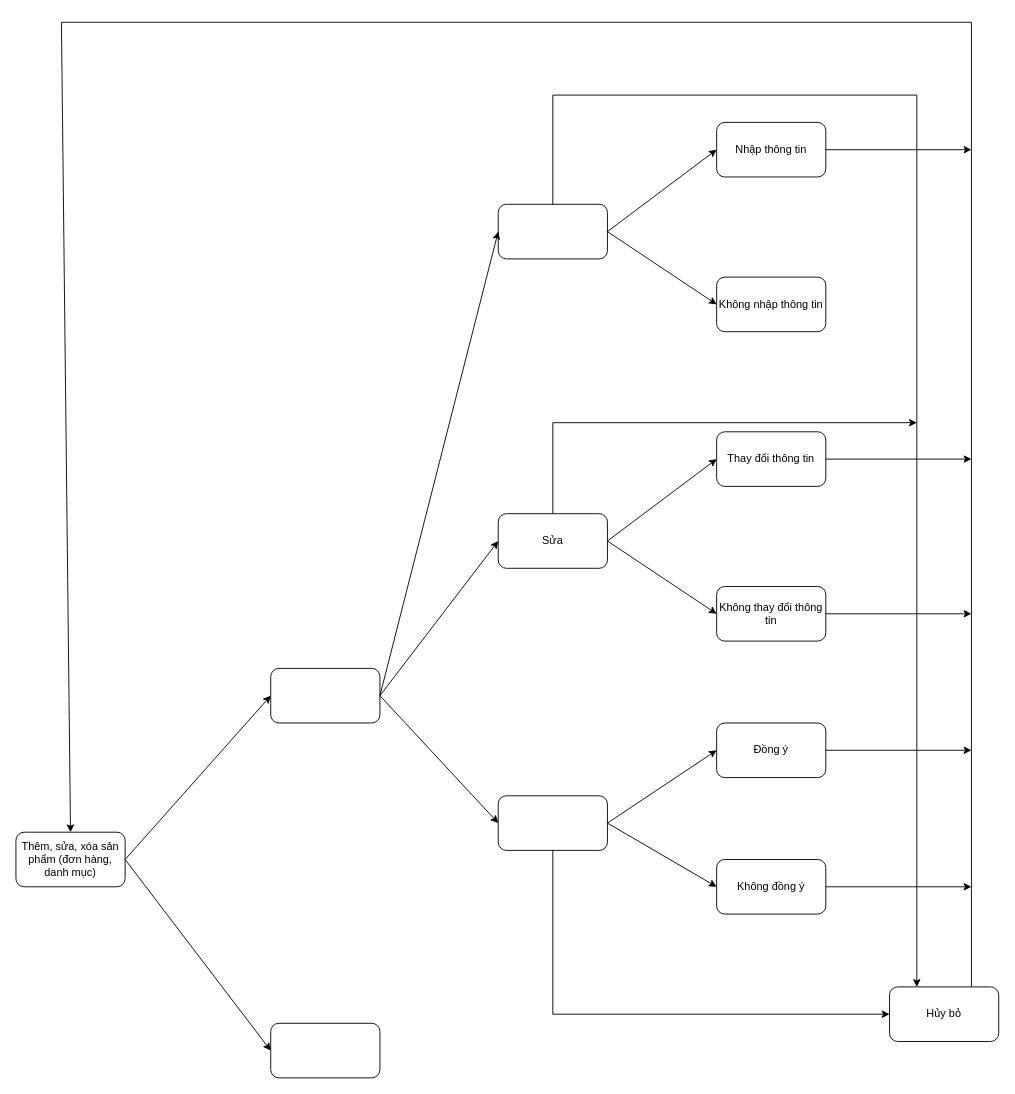
Some shapes in this 1015 by 1094 pixel diagram are drawn without their labels. The centre of each missing label's shape, as x and y in pixels:
"Có sản phẩm (đơn hàng, danh mục)" goes at point 325,695.
"Không có sản phẩm (đơn hàng, danh mục)" goes at point 325,1050.
"Thêm" goes at point 552,231.
"Xóa" goes at point 552,822.
